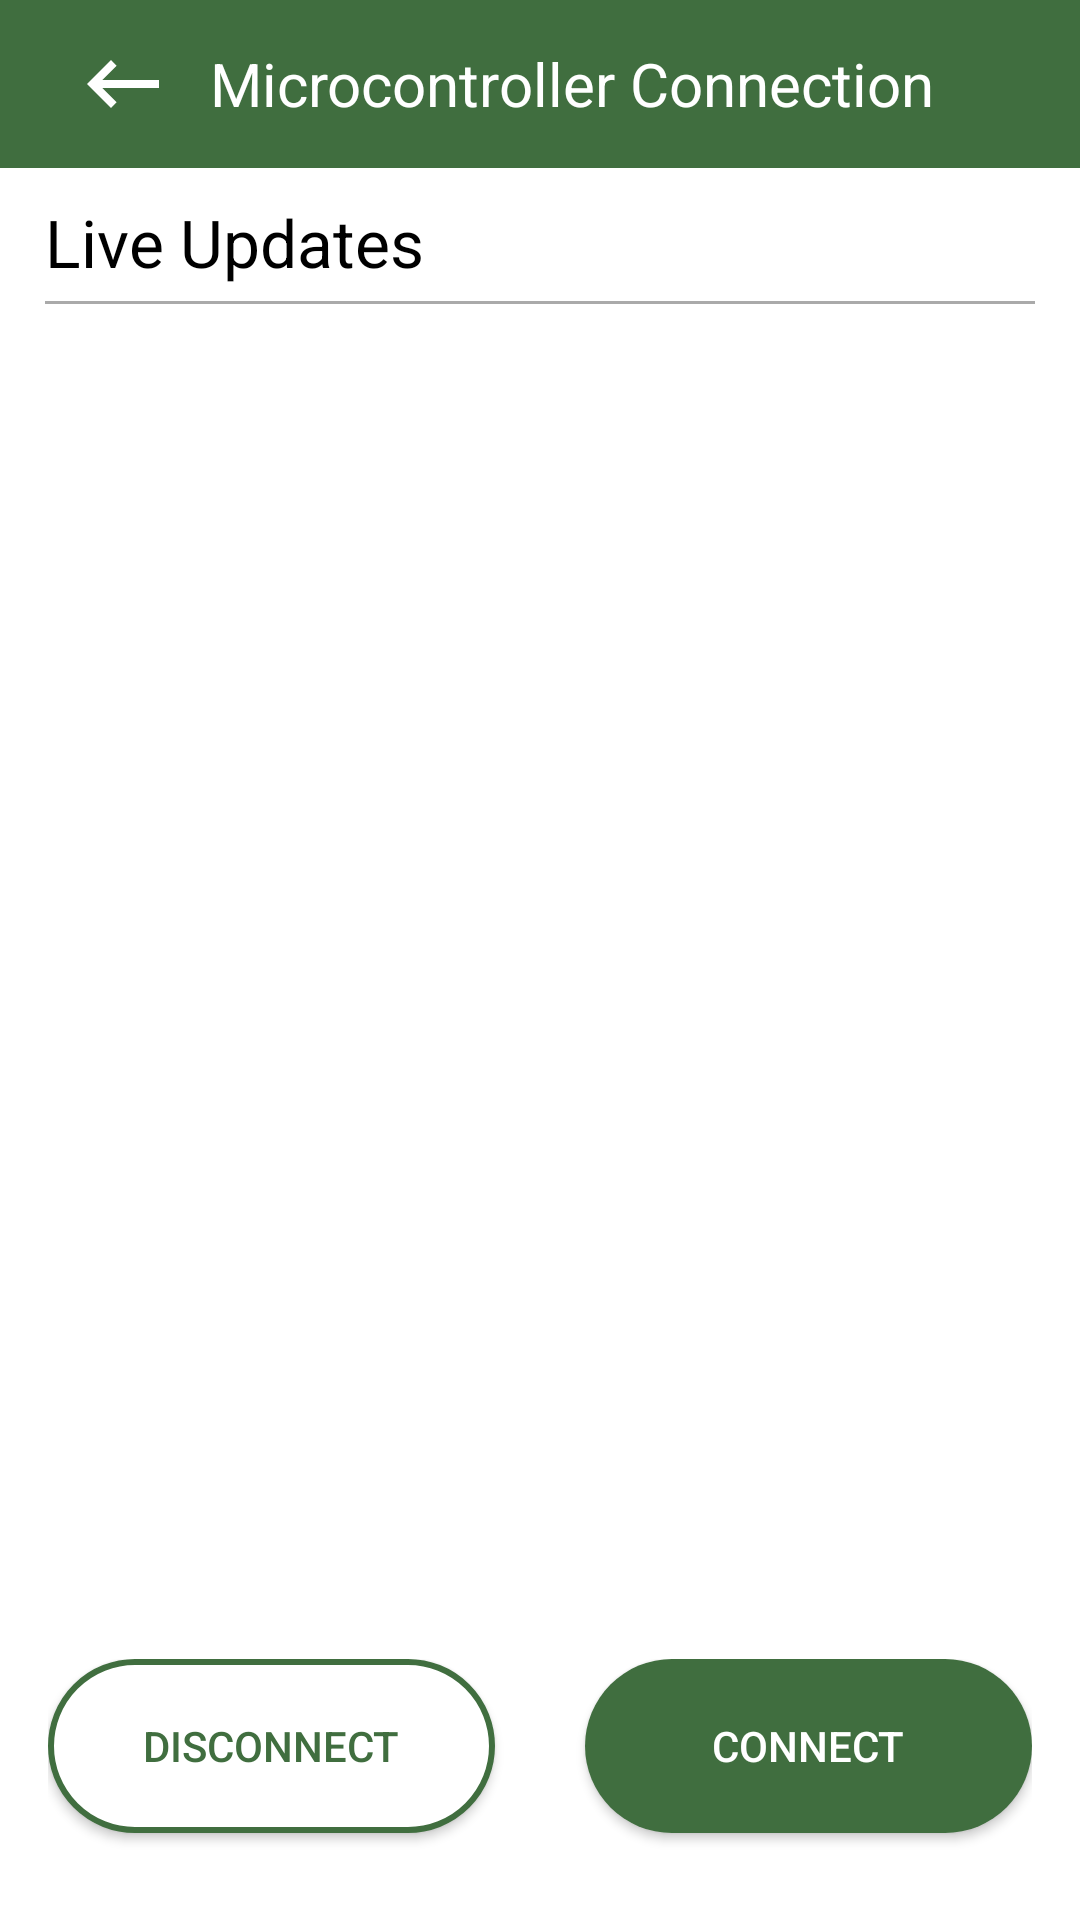

Point at icon controls on the screen. Image size 1080*1920, points as (x=x, y=y).
Back button: (x=123, y=84)
